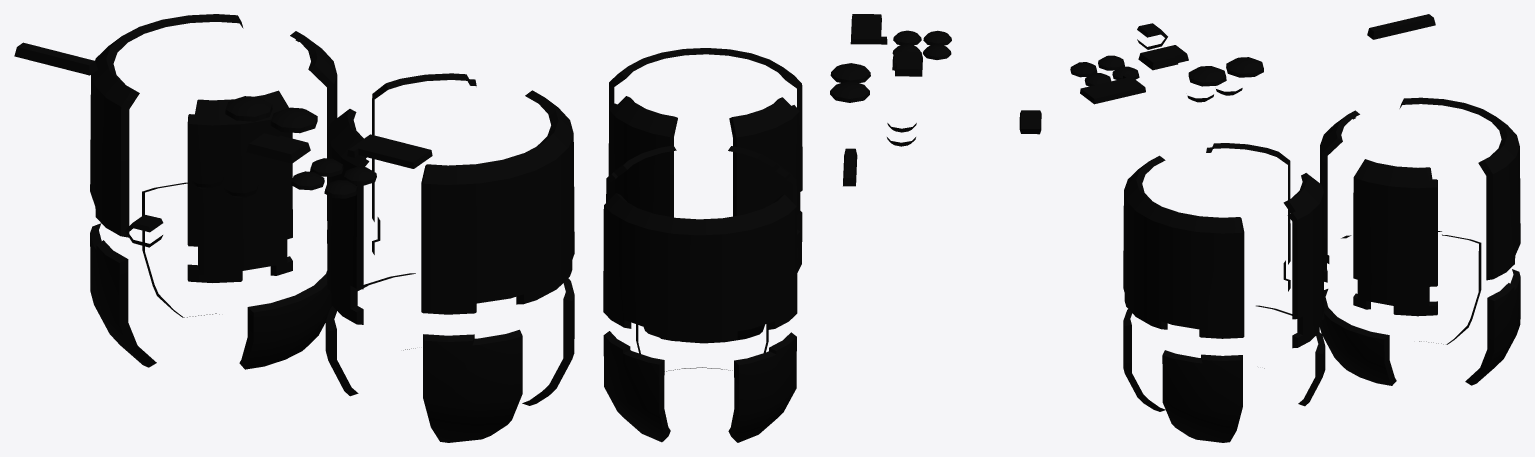
Rendered from prop_static_tr1_container_01_01_0.glb.
The picture shows the model from 3 angles, left to right: view 1: azimuth 30°, elevation 25°; view 2: azimuth 150°, elevation 25°; view 3: azimuth 270°, elevation 25°; orthographic projection. The views are drawn at different scales.
Parts seen in each view (by area): view 1: tr1_container_01_01_LOD0; view 2: tr1_container_01_01_LOD0; view 3: tr1_container_01_01_LOD0.
Part boxes in pixels (box(x1,y1,x2,y2)): tr1_container_01_01_LOD0: box(14, 14, 574, 442); tr1_container_01_01_LOD0: box(603, 14, 1041, 442); tr1_container_01_01_LOD0: box(1070, 14, 1520, 442).
Size of what is drawn, in the model's own units: 6.06 by 4.21 by 6.15.
1 material, 1 textured.
